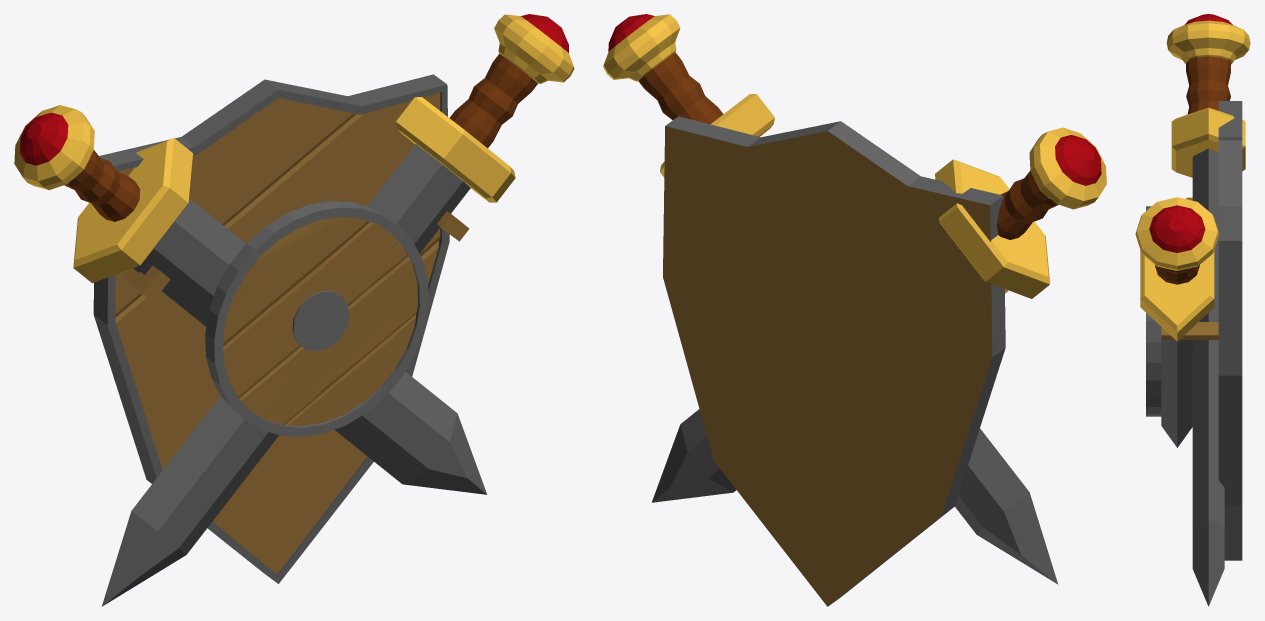
Rendered from Crossed_Swords_Wall_Crest.fbx.
3 renders of one model, left to right at view 1: azimuth 30°, elevation 25°; view 2: azimuth 150°, elevation 25°; view 3: azimuth 270°, elevation 25°, orthographic. The views are drawn at different scales.
Parts seen in each view (by area): view 1: Cube.005; view 2: Cube.005; view 3: Cube.005.
Part boxes in pixels (left/top/right/bottom): Cube.005: left=14, top=14, right=574, bottom=606; Cube.005: left=603, top=14, right=1106, bottom=606; Cube.005: left=1135, top=14, right=1250, bottom=606.
Bounding box in the file's own units: 73.64 × 71.09 × 16.47.
